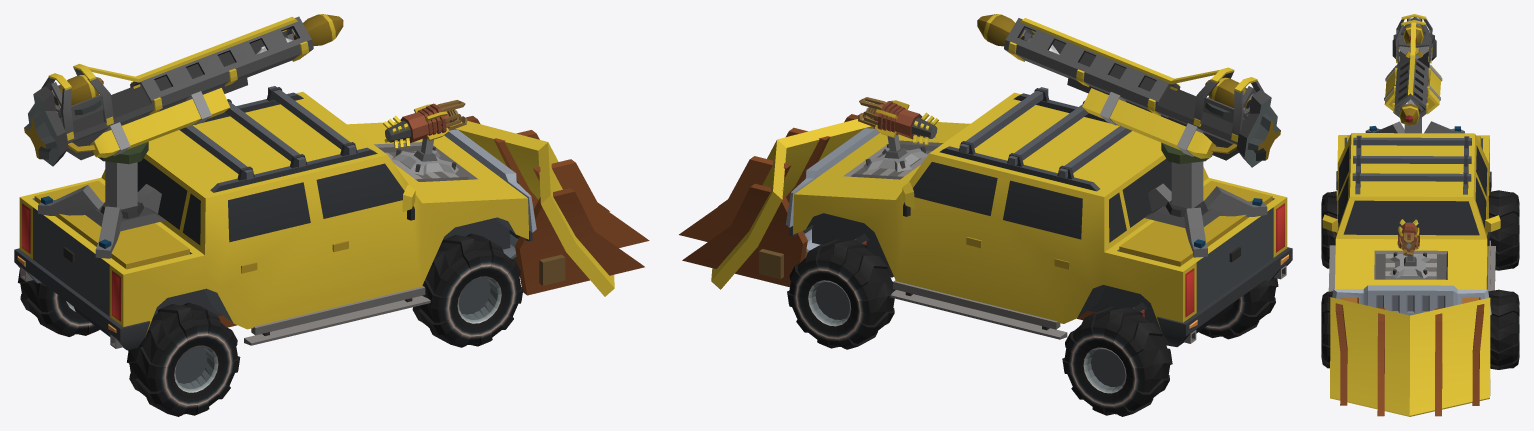
The model's file is car_(8).fbx.
3 views of the same model, side by side, from view 1: azimuth 30°, elevation 25°; view 2: azimuth 150°, elevation 25°; view 3: azimuth 270°, elevation 25° (orthographic). The views are drawn at different scales.
Parts seen in each view (by area): view 1: Car.001_Circle.000_Car_0.005, Car.001_Circle.000_Car_0.007, Car.001_Circle.000_Car_0.001, Wheel_FR_5_Eagle_0.006, Wheel_FR_5_Eagle_0.005, Car.001_Circle.000_Car_0.008, Wheel_FR_5_Eagle_0.008, Car.001_Circle.000_Car_0.006; view 2: Car.001_Circle.000_Car_0.005, Car.001_Circle.000_Car_0.007, Car.001_Circle.000_Car_0.001, Wheel_FR_5_Eagle_0.008, Wheel_FR_5_Eagle_0.007, Car.001_Circle.000_Car_0.008, Wheel_FR_5_Eagle_0.006, Car.001_Circle.000_Car_0.006; view 3: Car.001_Circle.000_Car_0.005, Car.001_Circle.000_Car_0.001, Car.001_Circle.000_Car_0.007, Wheel_FR_5_Eagle_0.007, Wheel_FR_5_Eagle_0.008, Wheel_FR_5_Eagle_0.006, Wheel_FR_5_Eagle_0.005, Car.001_Circle.000_Car_0.008, Car.001_Circle.000_Car_0.006.
Boxes of the visible parts, bbox=[...] form: Car.001_Circle.000_Car_0.005: bbox=[14, 86, 565, 350]; Car.001_Circle.000_Car_0.007: bbox=[24, 16, 313, 166]; Car.001_Circle.000_Car_0.001: bbox=[450, 116, 649, 296]; Wheel_FR_5_Eagle_0.006: bbox=[127, 302, 240, 416]; Wheel_FR_5_Eagle_0.005: bbox=[412, 233, 523, 347]; Car.001_Circle.000_Car_0.008: bbox=[383, 100, 467, 148]; Wheel_FR_5_Eagle_0.008: bbox=[18, 268, 99, 336]; Car.001_Circle.000_Car_0.006: bbox=[256, 14, 343, 54]; Car.001_Circle.000_Car_0.005: bbox=[759, 87, 1292, 346]; Car.001_Circle.000_Car_0.007: bbox=[1004, 18, 1280, 167]; Car.001_Circle.000_Car_0.001: bbox=[679, 114, 874, 289]; Wheel_FR_5_Eagle_0.008: bbox=[1062, 306, 1172, 416]; Wheel_FR_5_Eagle_0.007: bbox=[787, 238, 895, 349]; Car.001_Circle.000_Car_0.008: bbox=[857, 97, 938, 145]; Wheel_FR_5_Eagle_0.006: bbox=[1199, 278, 1278, 339]; Car.001_Circle.000_Car_0.006: bbox=[977, 14, 1059, 54]; Car.001_Circle.000_Car_0.005: bbox=[1322, 117, 1500, 315]; Car.001_Circle.000_Car_0.001: bbox=[1330, 297, 1490, 416]; Car.001_Circle.000_Car_0.007: bbox=[1384, 14, 1442, 125]; Wheel_FR_5_Eagle_0.007: bbox=[1488, 289, 1519, 369]; Wheel_FR_5_Eagle_0.008: bbox=[1489, 190, 1519, 270]; Wheel_FR_5_Eagle_0.006: bbox=[1321, 191, 1337, 268]; Wheel_FR_5_Eagle_0.005: bbox=[1321, 291, 1332, 368]; Car.001_Circle.000_Car_0.008: bbox=[1397, 219, 1419, 255]; Car.001_Circle.000_Car_0.006: bbox=[1399, 99, 1419, 125].
Size of the model in its own units: 380 by 196 by 153.
6 materials, 6 textured.
